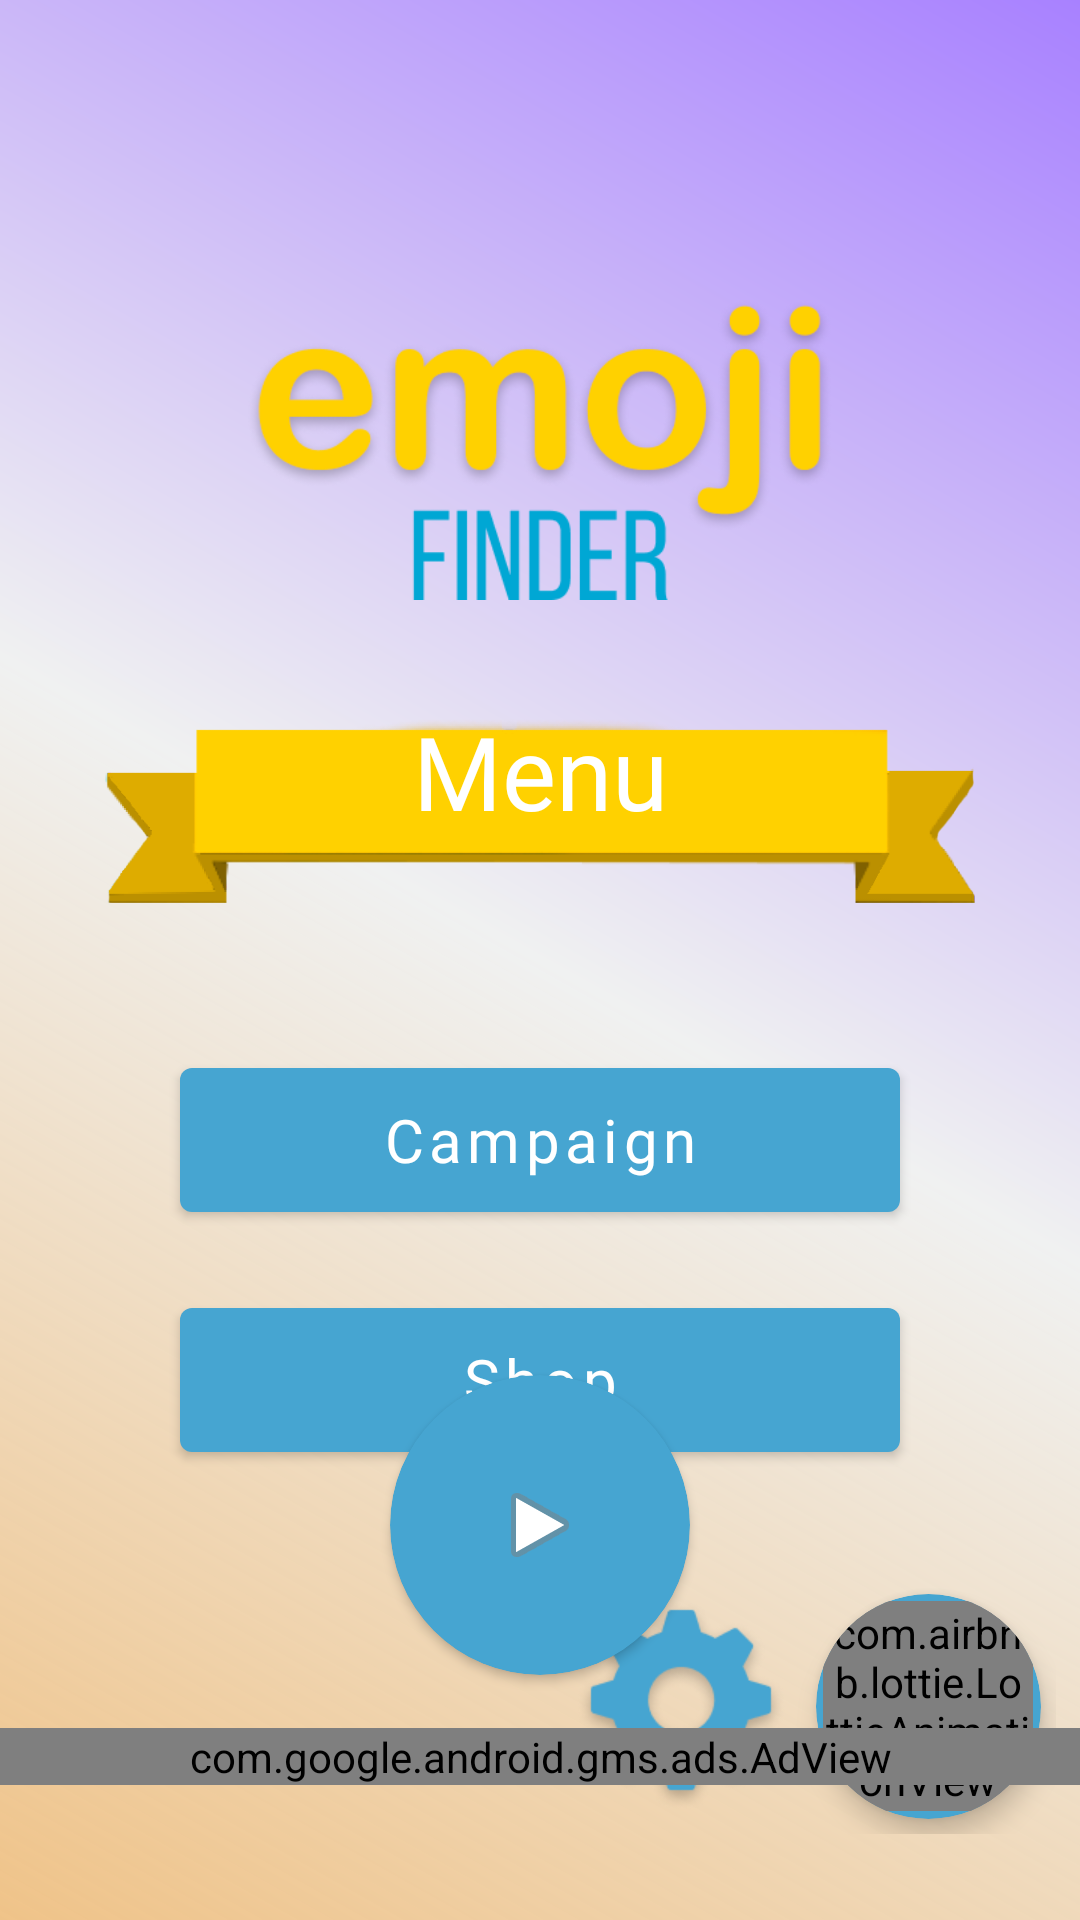

Locate icon controls on the screen. Image size 1080w x 1920h, boxes as (x1, y1, x2, y2).
play: (511, 1493, 569, 1557)
